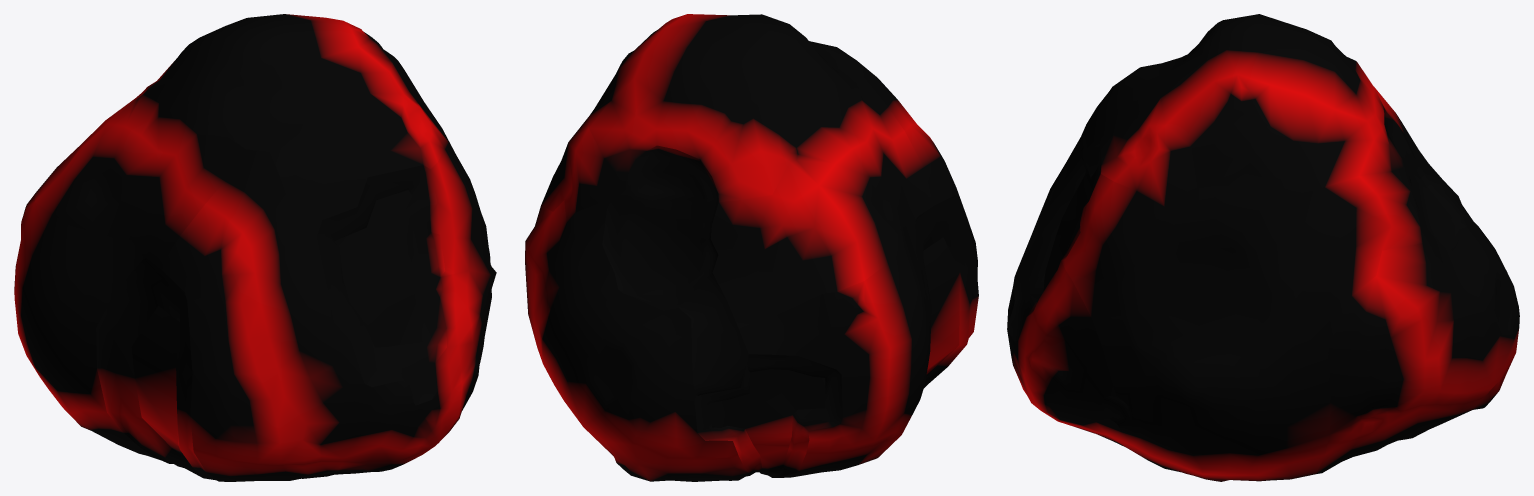
The model's file is Asteroid_Rock_LOD1.glb.
3 renders of one model, left to right at view 1: azimuth 30°, elevation 25°; view 2: azimuth 150°, elevation 25°; view 3: azimuth 270°, elevation 25°, orthographic. The views are drawn at different scales.
Parts seen in each view (by area): view 1: Asteroid_Rock_LOD1; view 2: Asteroid_Rock_LOD1; view 3: Asteroid_Rock_LOD1.
Boxes of the visible parts, x1,y1,x2,y2 form: Asteroid_Rock_LOD1: (14,14,496,481); Asteroid_Rock_LOD1: (525,14,978,481); Asteroid_Rock_LOD1: (1007,14,1519,481).
Bounding box in the file's own units: 44.3 × 43.81 × 48.6.
